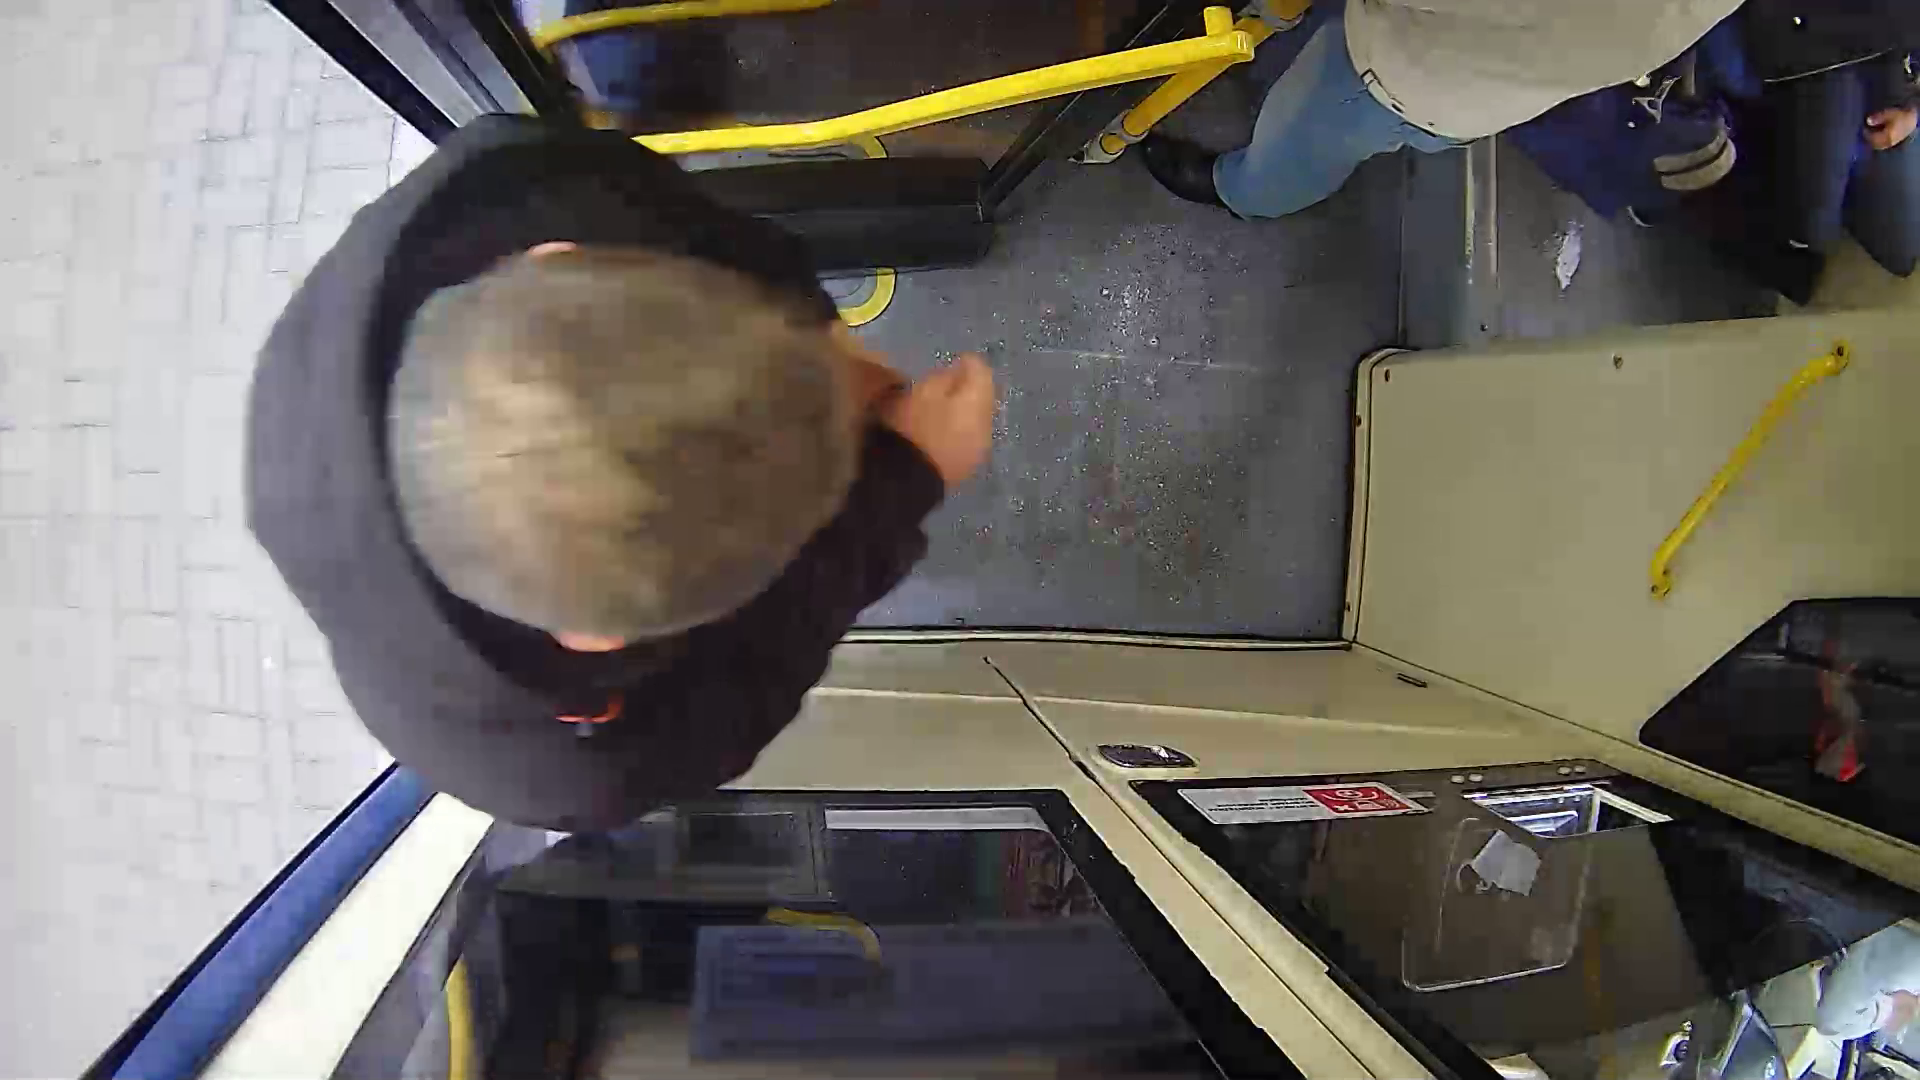person: (261, 194, 1024, 822)
